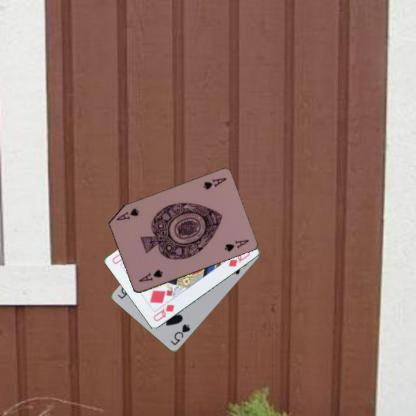5s: (167, 322, 192, 346)
As: (136, 267, 164, 283), (200, 175, 228, 191)
Qd: (150, 302, 176, 323)
